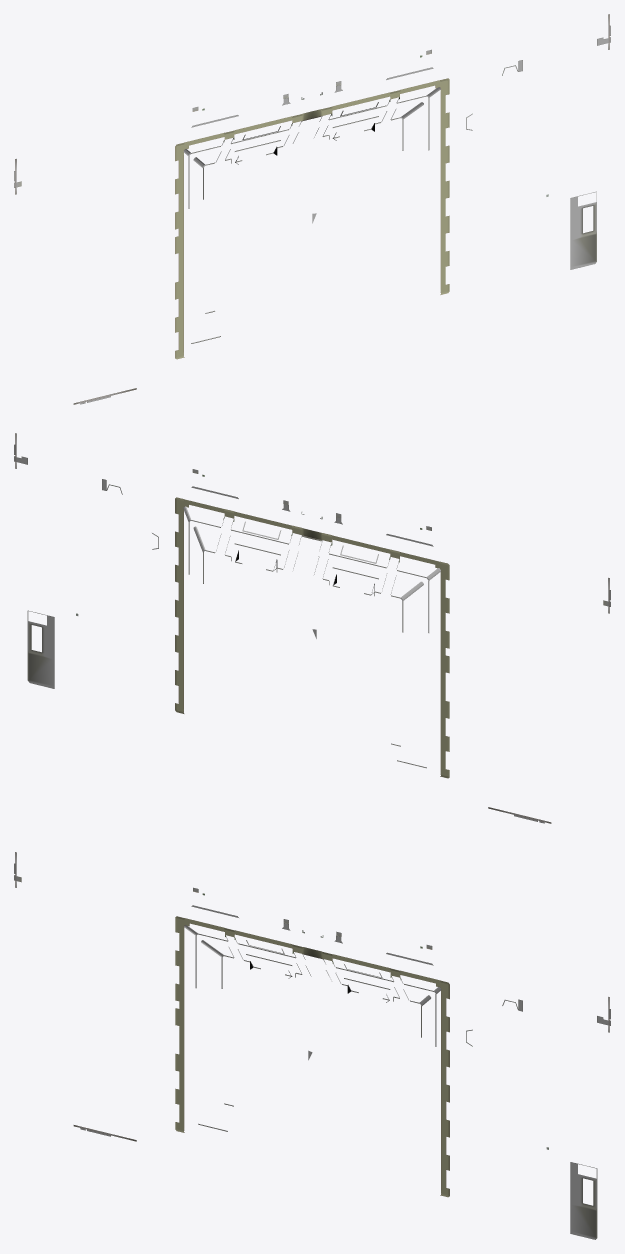
Rendered from SM_000408_merge_concrete01__003.fbx.
The picture shows the model from 3 angles, top to bottom: view 1: azimuth 30°, elevation 25°; view 2: azimuth 150°, elevation 25°; view 3: azimuth 330°, elevation 25°; orthographic projection.
Parts seen in each view (by area): view 1: SM_000408.001; view 2: SM_000408.001; view 3: SM_000408.001.
Part boxes in pixels (x1,y1,x2,y2): SM_000408.001: [14, 14, 610, 404]; SM_000408.001: [14, 433, 610, 823]; SM_000408.001: [14, 852, 610, 1239].
Bounding box in the file's own units: 330 × 142 × 11.17.
